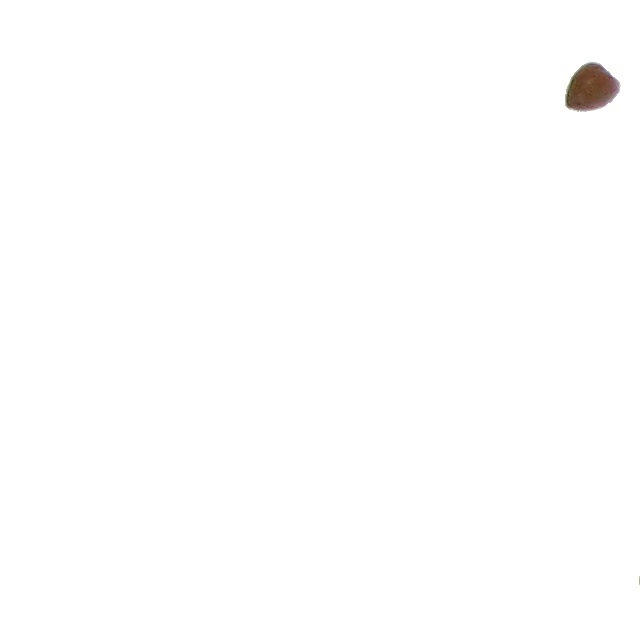buckwheat: (564, 61, 622, 113)
